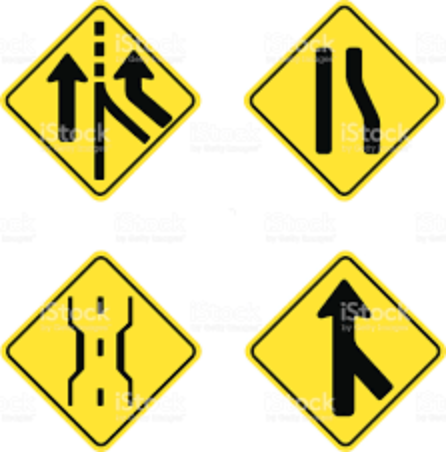Narrow_road: (240, 1, 446, 206)
